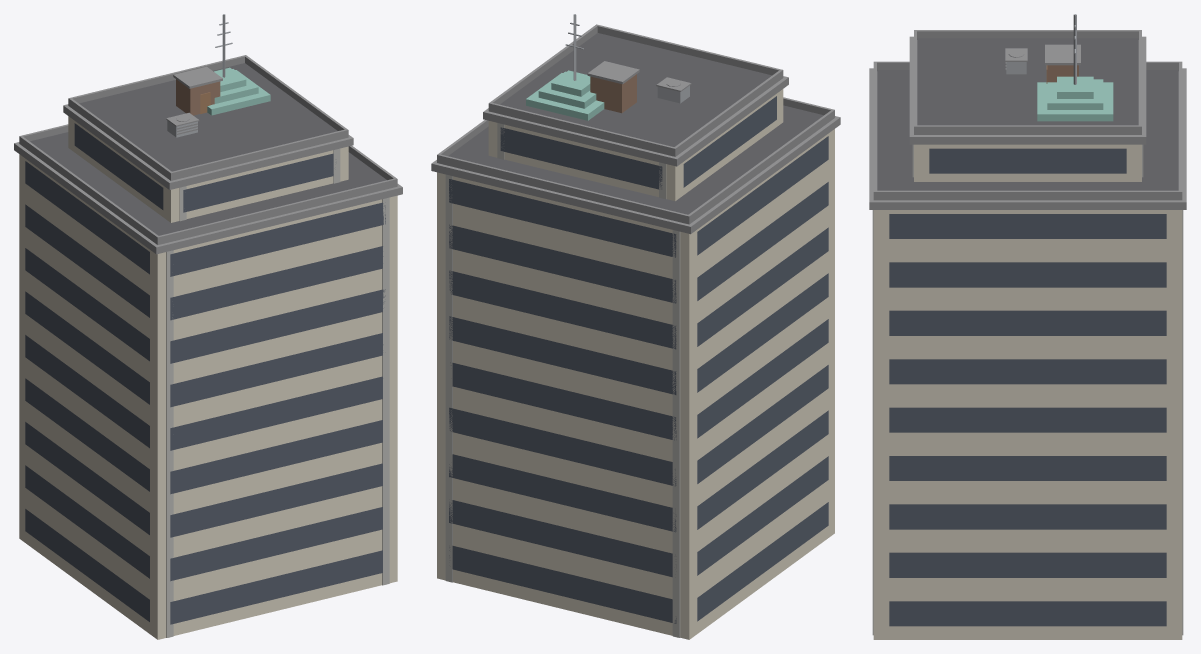
File: bld_deco_01.glb
The picture shows the model from 3 angles, left to right: view 1: azimuth 30°, elevation 25°; view 2: azimuth 150°, elevation 25°; view 3: azimuth 270°, elevation 25°; orthographic projection. The views are drawn at different scales.
Parts seen in each view (by area): view 1: bld_deco_01; view 2: bld_deco_01; view 3: bld_deco_01.
Part boxes in pixels (<box>): bld_deco_01: <box>14,14,402,639</box>; bld_deco_01: <box>431,14,840,639</box>; bld_deco_01: <box>869,14,1186,639</box>.
Bounding box in the file's own units: 18.5 × 37.35 × 18.5.
